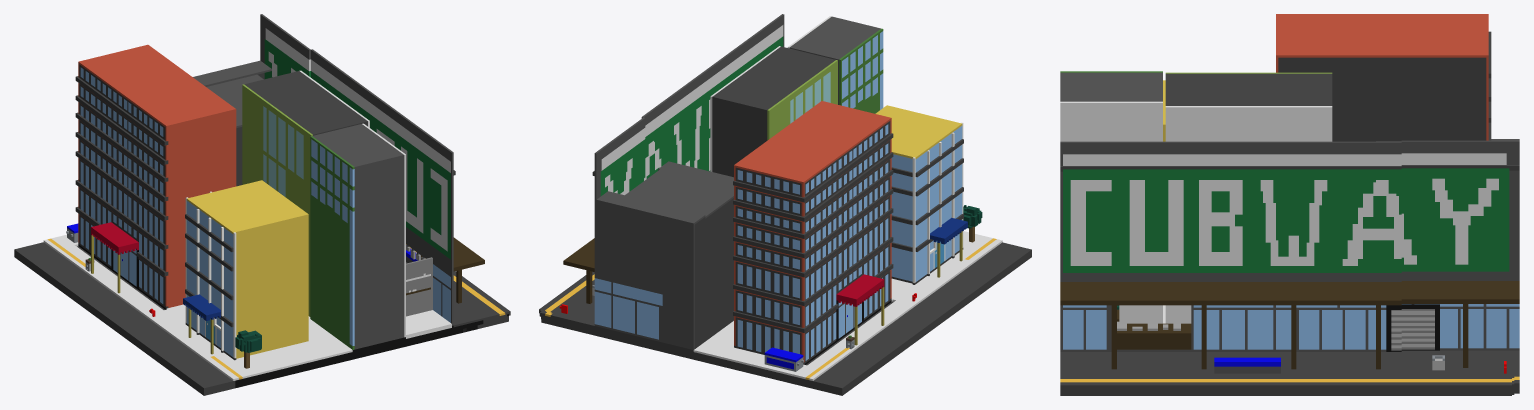
Rendered from sity_1.vox.obj.
3 views of the same model, side by side, from view 1: azimuth 30°, elevation 25°; view 2: azimuth 150°, elevation 25°; view 3: azimuth 270°, elevation 25° (orthographic). The views are drawn at different scales.
Bounding box in the file's own units: 16.7 × 10 × 17.9.
Materials: 1 (1 with a texture image).
